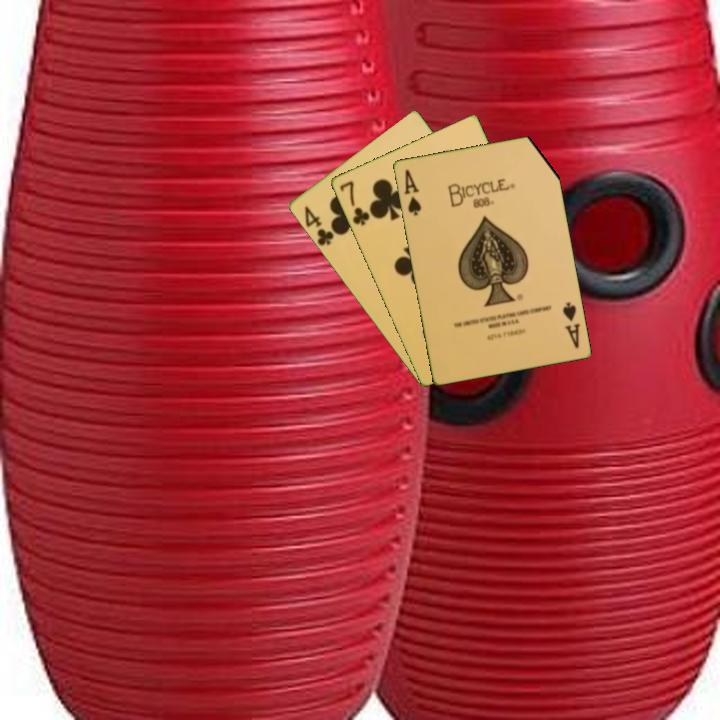4c: (300, 202, 337, 249)
7c: (335, 177, 372, 228)
As: (400, 165, 424, 218), (559, 298, 583, 351)
